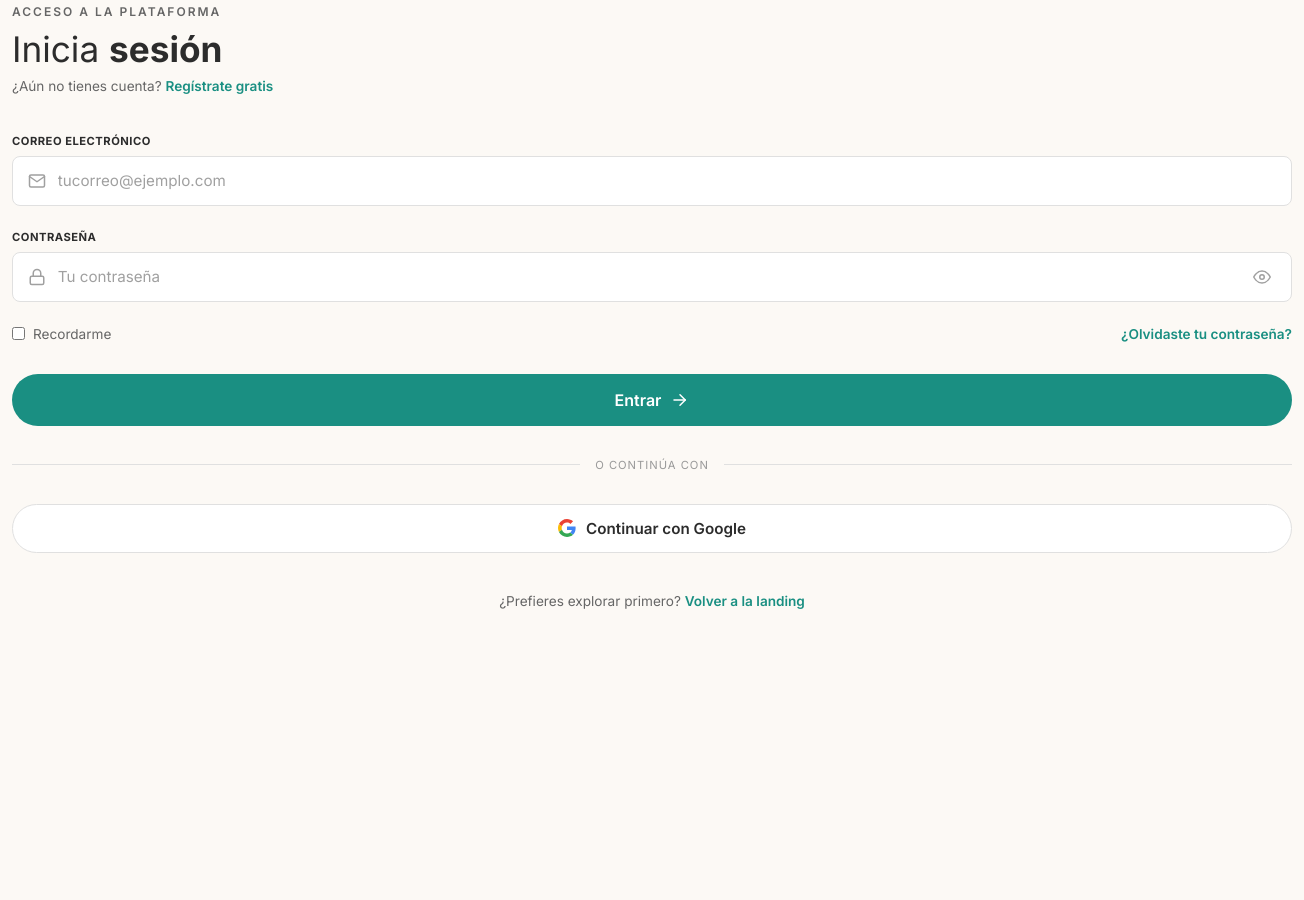
LoginForm › rechaza un correo con formato inválido
In the field labelled "CORREO ELECTRÓNICO": x=652, y=181 [12,156,1292,206], type "renata(at)ejemplo"
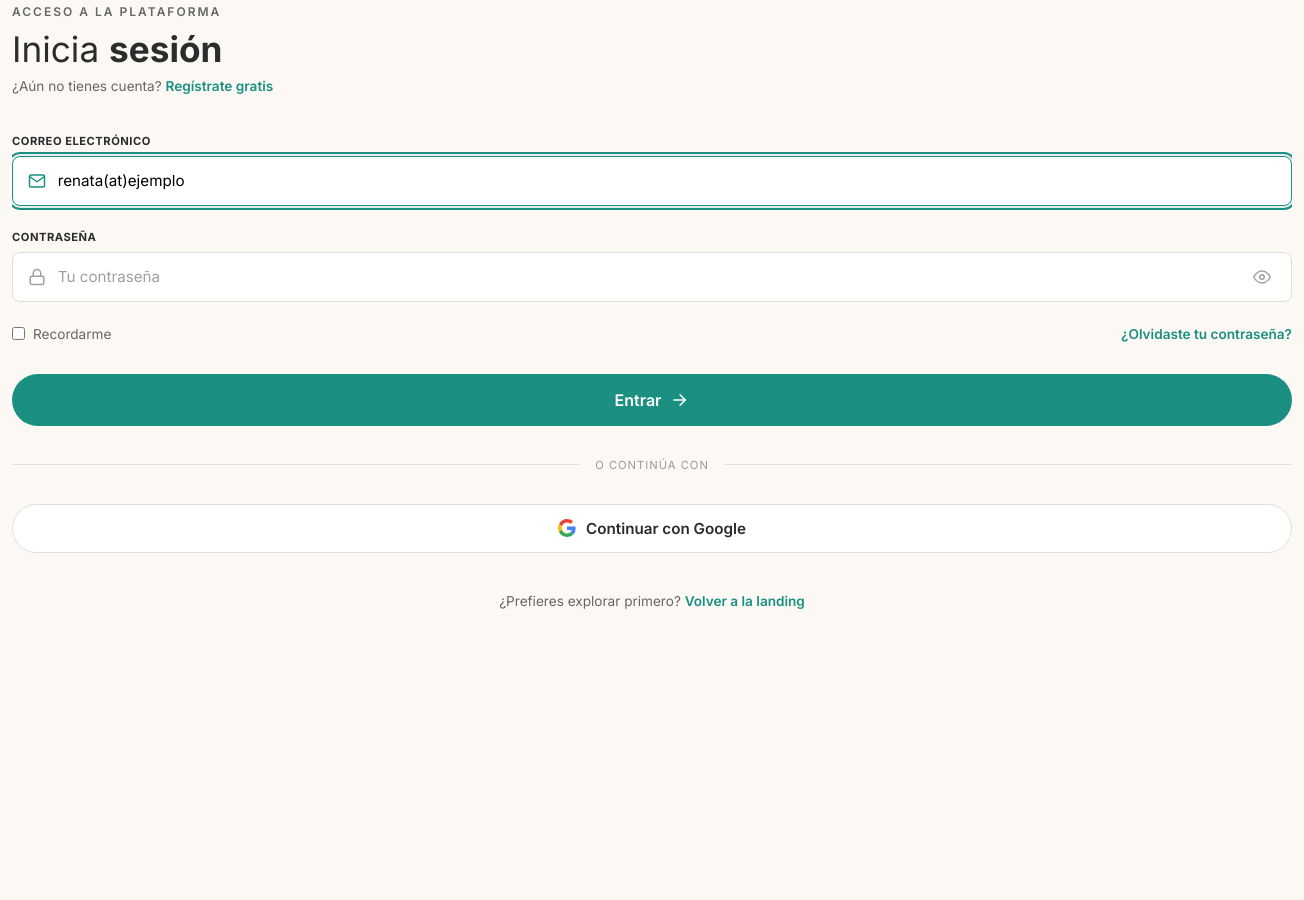
In the password field labelled "CONTRASEÑA": x=652, y=277 [12,252,1292,302], type "Sostenible2026"
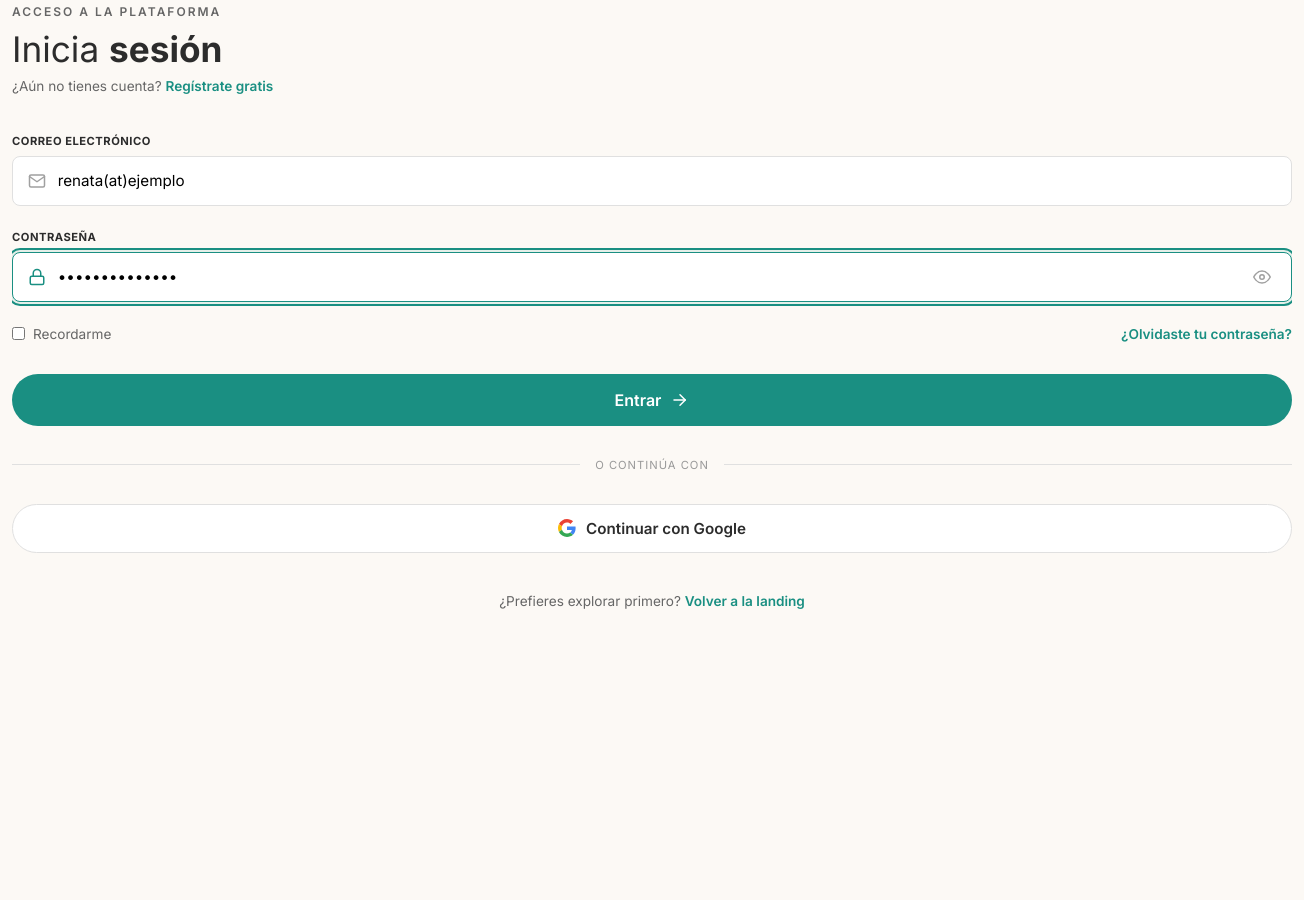
Click the button "Entrar": x=652, y=400 [12,374,1292,426]
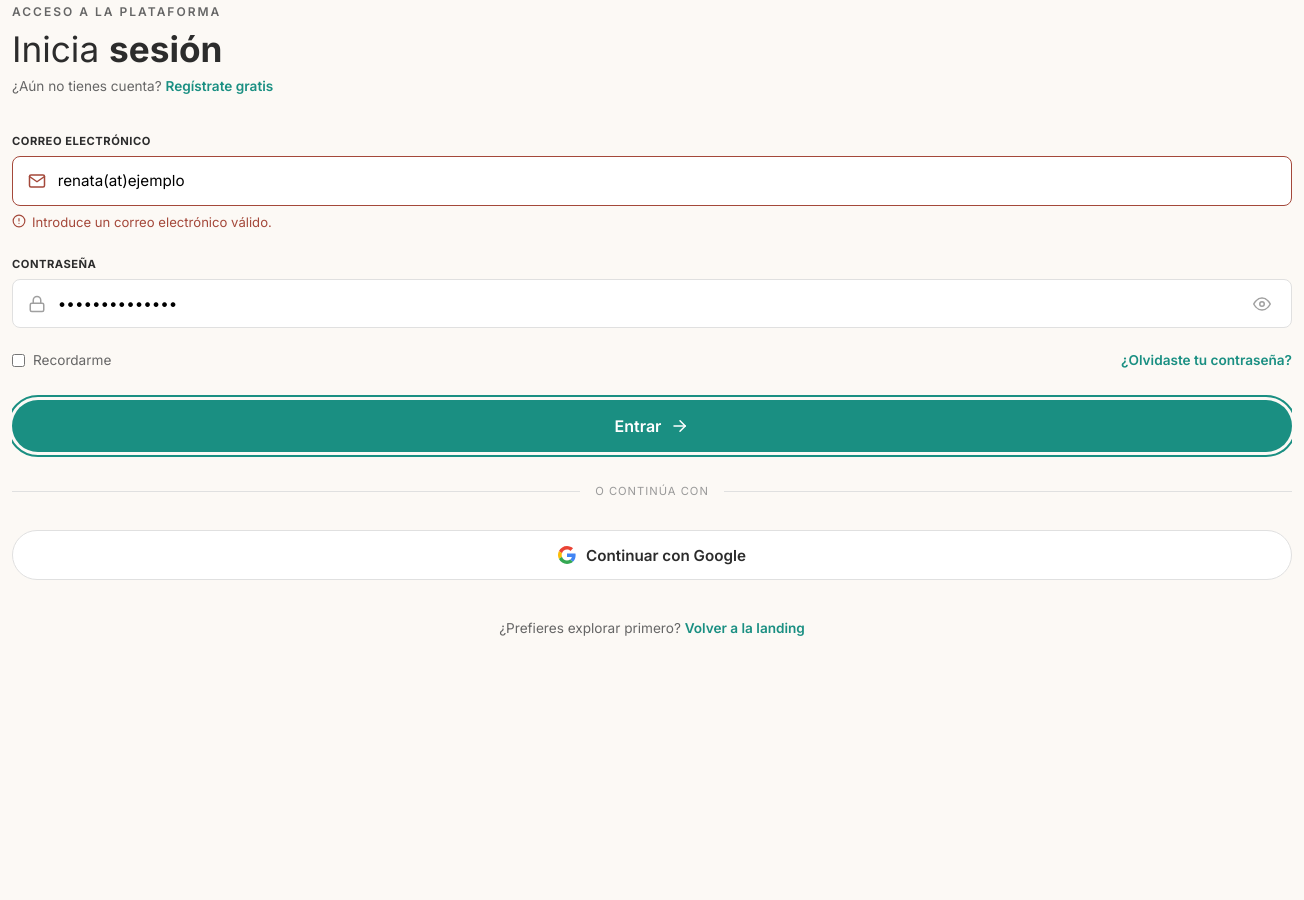
Now the text "Introduce un correo electrónico válido." is shown, box [32,213,272,233]
